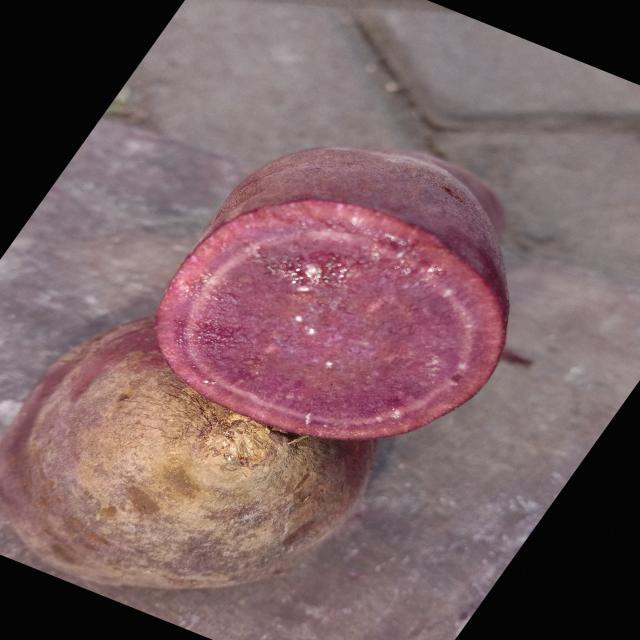Healthy Sweet Potato: (157, 200, 505, 439)
